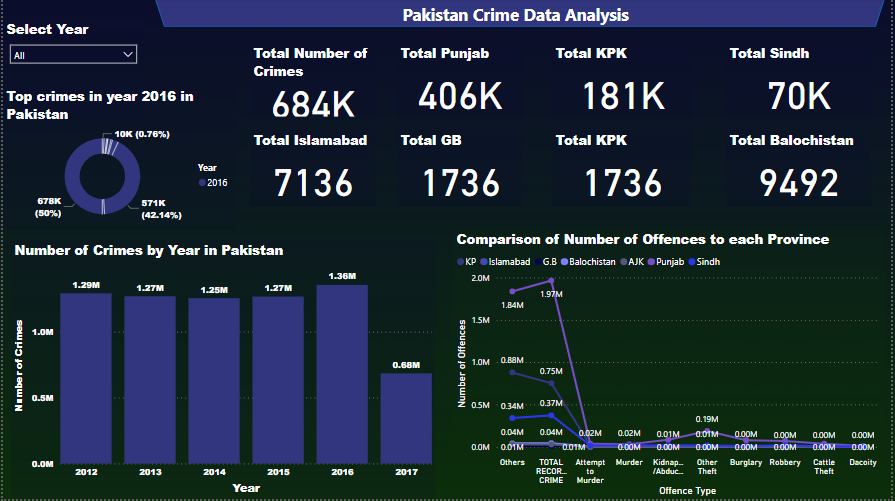

The dashboard page shown, as its layout file describes it:
{"tool":"powerbi","page":{"name":"Page 1","canvas":[1280,720],"ordinal":0},"visuals":[{"type":"shape","box":[218.9,0,1051.2,40.3],"z":0},{"type":"slicer","title":"Select Year","fields":{"Values":["Yearly comparison.Year"]},"box":[0,28.8,203,145.4],"z":1000},{"type":"clusteredColumnChart","title":"Number of Crimes by Year in Pakistan","fields":{"Y":["Sum(Yearly comparison.Pakistan)"],"Category":["Yearly comparison.Year"]},"box":[11.5,347,610.6,373],"z":2000},{"type":"card","title":"Total Number of Crimes","fields":{"Values":["Sum(2017.Pakistan)"]},"box":[355.7,63.4,181.4,110.9],"z":3000},{"type":"card","title":"Total Punjab","fields":{"Values":["Sum(2017.Punjab)"]},"box":[567.4,63.4,181.4,110.9],"z":4000},{"type":"card","title":"Total KPK","fields":{"Values":["Sum(2017.KP)"]},"box":[790.6,63.4,201.6,110.9],"z":5000},{"type":"card","title":"Total Sindh","fields":{"Values":["Sum(2017.Sindh)"]},"box":[1041.1,63.4,208.8,110.9],"z":6000},{"type":"card","title":"Total KPK","fields":{"Values":["Sum(2017.G.B)"]},"box":[790.6,188.6,201.6,110.9],"z":7000},{"type":"card","title":"Total Balochistan","fields":{"Values":["Sum(2017.Balochistan)"]},"box":[1041.1,188.6,208.8,110.9],"z":8000},{"type":"card","title":"Total GB","fields":{"Values":["Sum(2017.G.B)"]},"box":[567.4,188.6,181.4,110.9],"z":9000},{"type":"card","title":"Total Islamabad","fields":{"Values":["Sum(2017.Islamabad)"]},"box":[355.7,188.6,181.4,110.9],"z":10000},{"type":"lineChart","title":"Comparison of Number of Offences to each Province","fields":{"Y":["Sum(Yearly comparison.KP)","Sum(Yearly comparison.Islamabad)","Sum(Yearly comparison.G.B)","Sum(Yearly comparison.Balochistan)","Sum(Yearly comparison.AJK)","Sum(Yearly comparison.Punjab)","Sum(Yearly comparison.Sindh)"],"Category":["Yearly comparison.Offence"]},"box":[648,331.2,622.1,388.8],"z":11000},{"type":"donutChart","title":"Top crimes in year 2016 in Pakistan","fields":{"Category":["Yearly comparison.Year"],"Y":["Sum(Yearly comparison.Pakistan)"],"Series":["Yearly comparison.Offence"]},"box":[0,125.3,337,205.9],"z":12000},{"type":"textbox","box":[570.2,0,348.5,63.4],"z":13500}]}

Visuals, with their boxes in screenshot pixels (x1, y1, x2, y2), scaled from the page's 1280x720 canvas onto the 895x501 screenshot:
shape: 153 0 888 28
"Select Year" slicer: 0 20 142 121
"Number of Crimes by Year in Pakistan" clusteredColumnChart: 8 241 435 500
"Total Number of Crimes" card: 249 44 376 121
"Total Punjab" card: 397 44 524 121
"Total KPK" card: 553 44 694 121
"Total Sindh" card: 728 44 874 121
"Total KPK" card: 553 131 694 208
"Total Balochistan" card: 728 131 874 208
"Total GB" card: 397 131 524 208
"Total Islamabad" card: 249 131 376 208
"Comparison of Number of Offences to each Province" lineChart: 453 230 888 500
"Top crimes in year 2016 in Pakistan" donutChart: 0 87 236 230
textbox: 399 0 642 44
